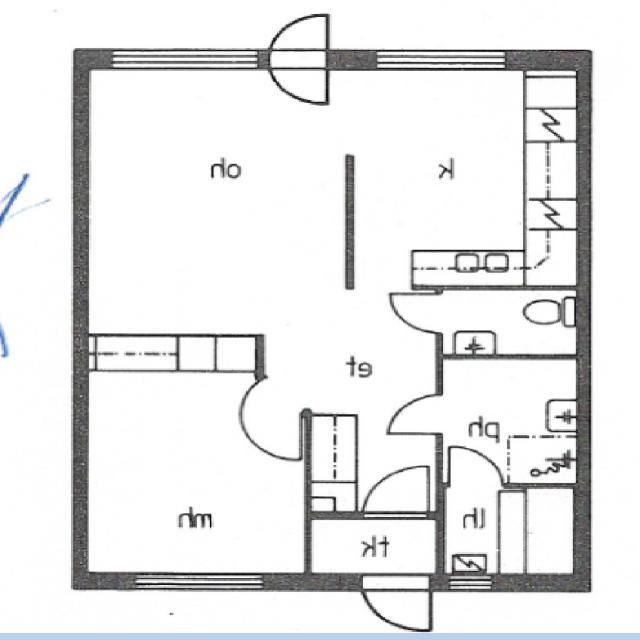door: (218, 376, 308, 446), (362, 574, 431, 640), (362, 460, 429, 519), (269, 5, 327, 70), (269, 50, 327, 114), (449, 442, 502, 487), (384, 395, 442, 435), (386, 293, 442, 332)
